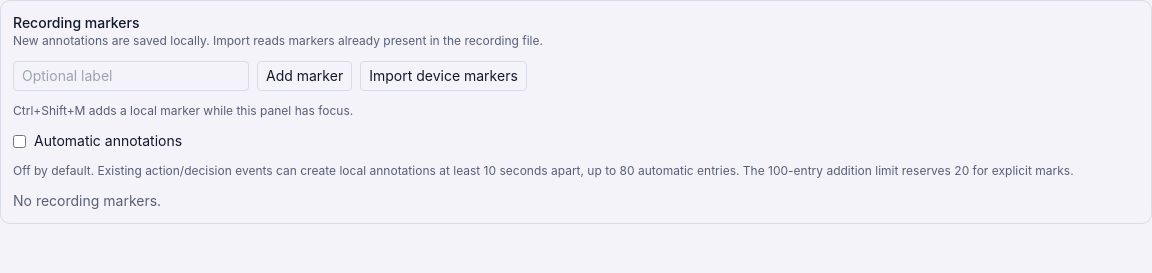
Test case: DeviceRecordingMarkers › imports read-only native markers and reports absence explicitly
The width and height of the screenshot is (1152, 273).
Click the button "Import device markers": point(444, 76) [360,61,527,91]
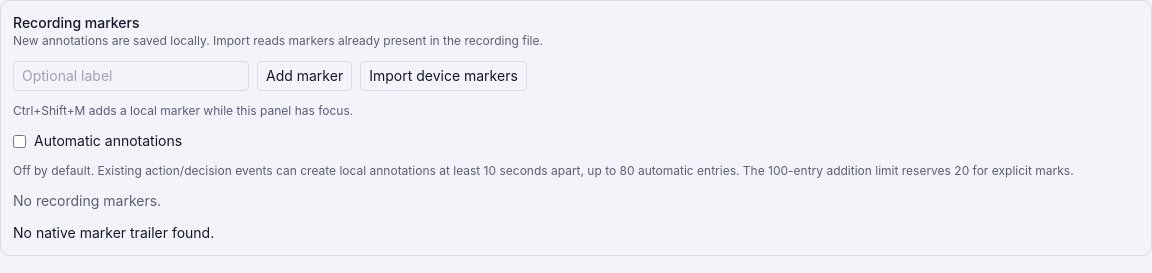
Check: the text "No native marker trailer found." is shown, box [13,224,214,241]
